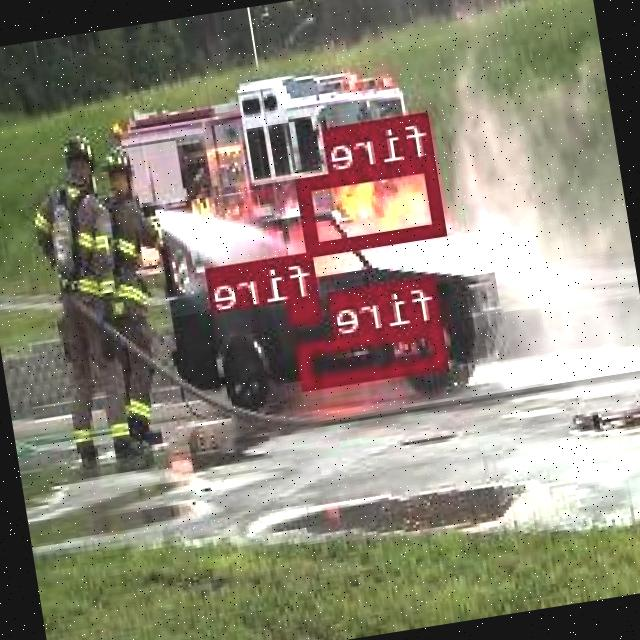fire: (298, 156, 449, 253), (298, 321, 450, 388), (289, 294, 324, 323)
